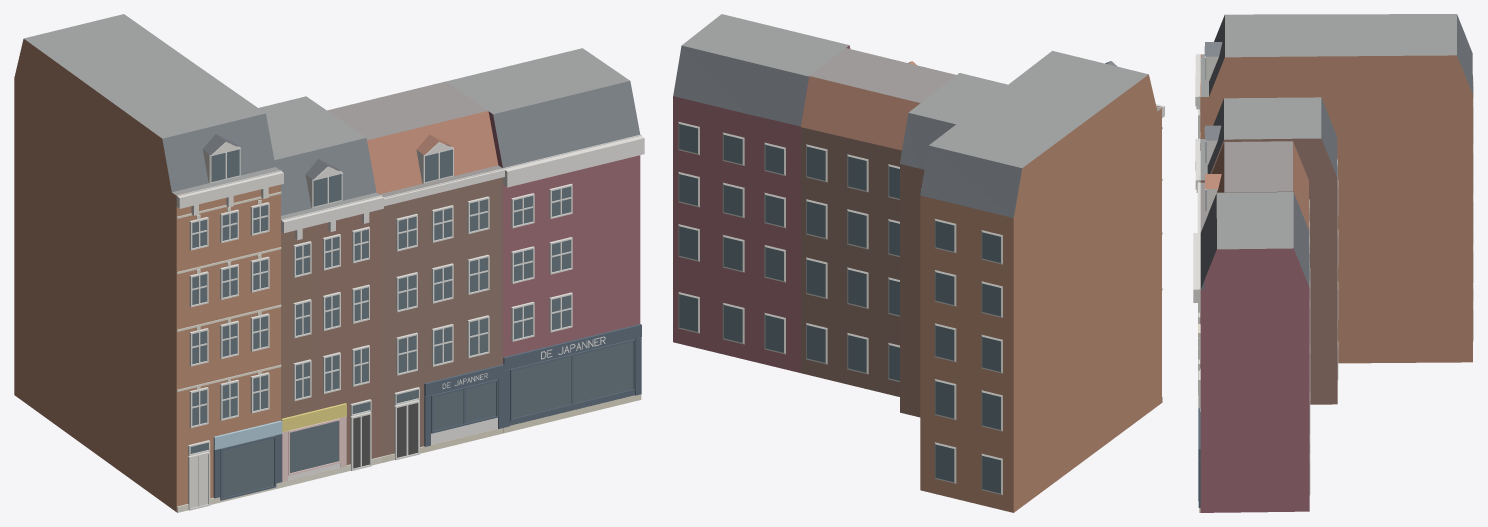
File: chunk-face-bilder-153622-156732.glb
3 views of the same model, side by side, from view 1: azimuth 30°, elevation 25°; view 2: azimuth 150°, elevation 25°; view 3: azimuth 270°, elevation 25° (orthographic). The views are drawn at different scales.
Visible parts, largest first — view 1: face-bilder-153622-156732; view 2: face-bilder-153622-156732; view 3: face-bilder-153622-156732.
Part boxes in pixels (x1,y1,x2,y2): face-bilder-153622-156732: (14,14,644,512); face-bilder-153622-156732: (673,14,1164,512); face-bilder-153622-156732: (1193,14,1473,512).
Bounding box in the file's own units: 24.51 × 18.29 × 15.13.
